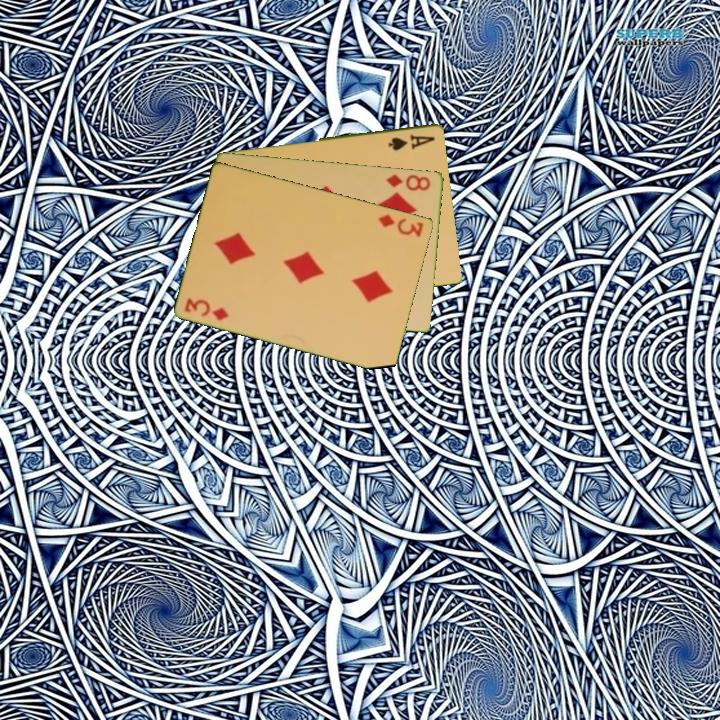3d: (375, 210, 426, 239), (181, 294, 232, 323)
8d: (383, 170, 434, 194)
As: (385, 130, 438, 153)
